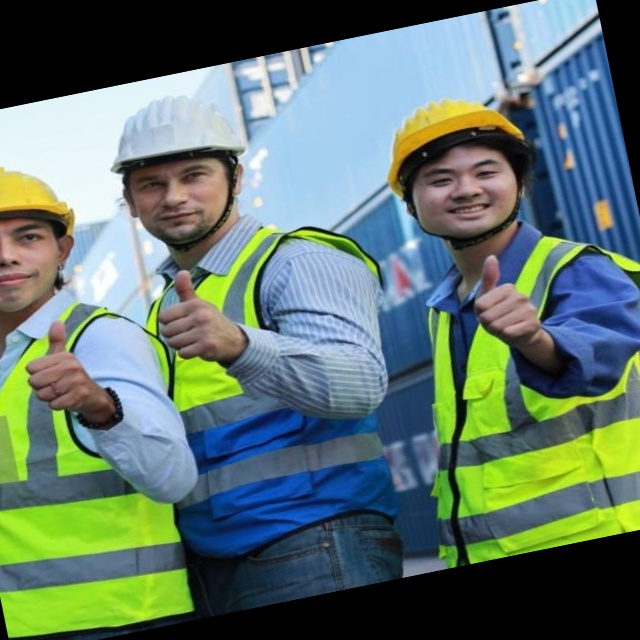Con_Casco: (94, 83, 263, 258), (0, 151, 99, 323)
Con_Chaleco: (122, 209, 424, 557), (375, 225, 640, 572)
